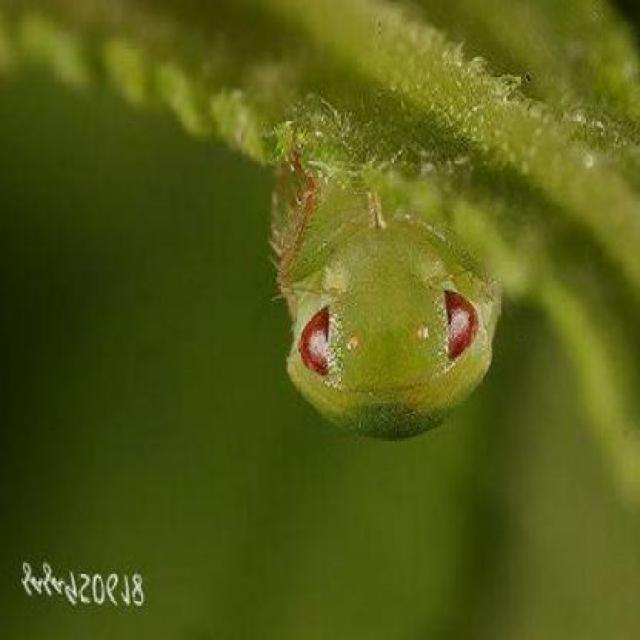green-leafhopper: (272, 154, 508, 438)
